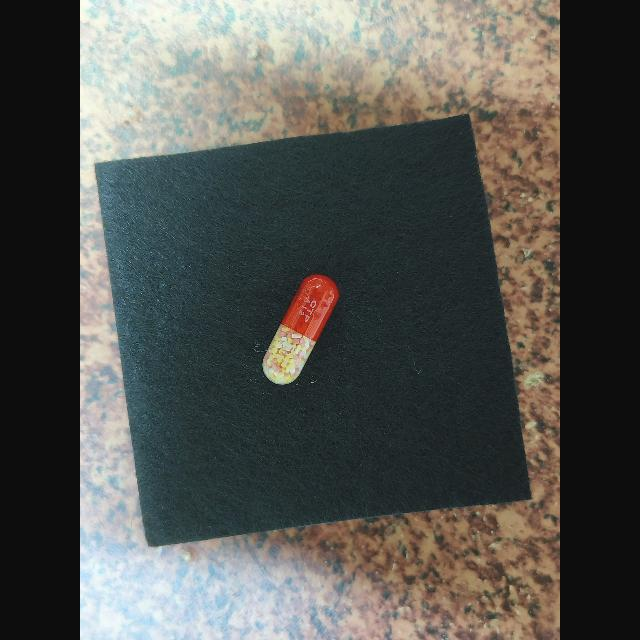Intact Capsule: (262, 274, 339, 384)
